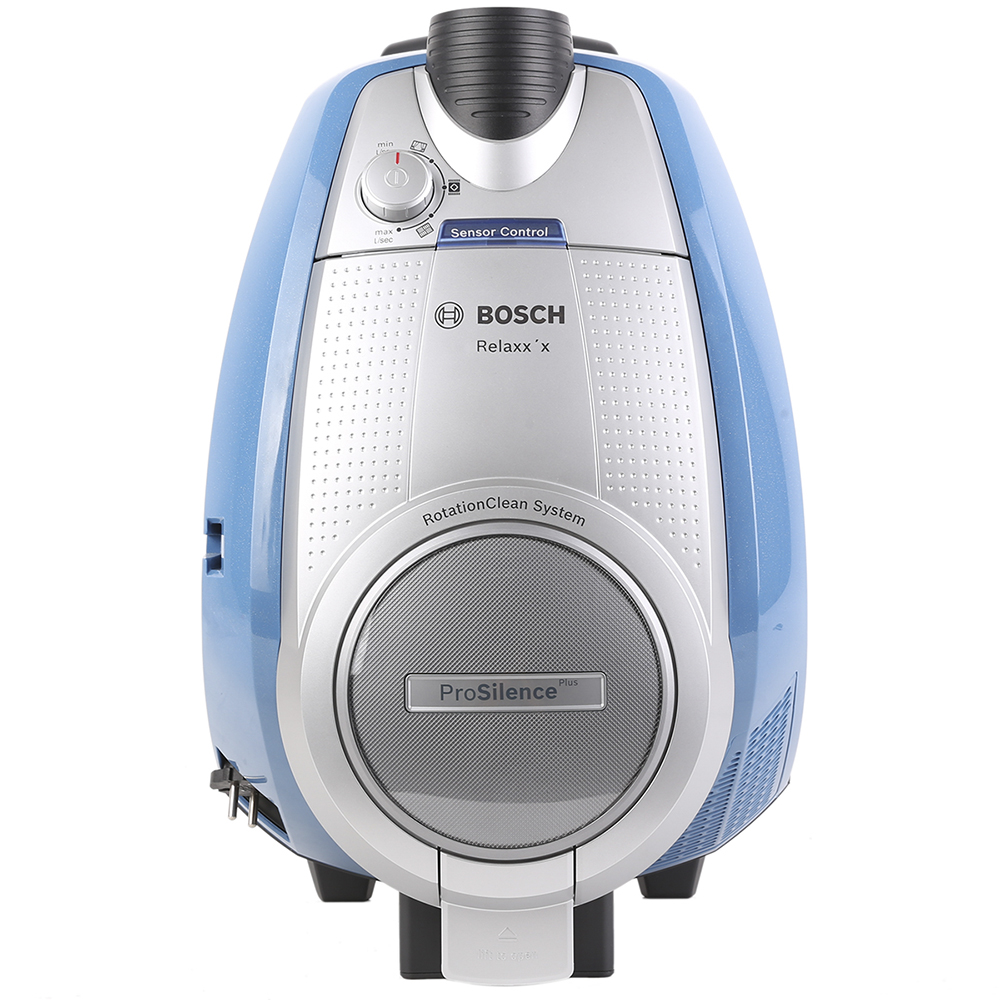Bosch: (472, 297, 575, 335)
